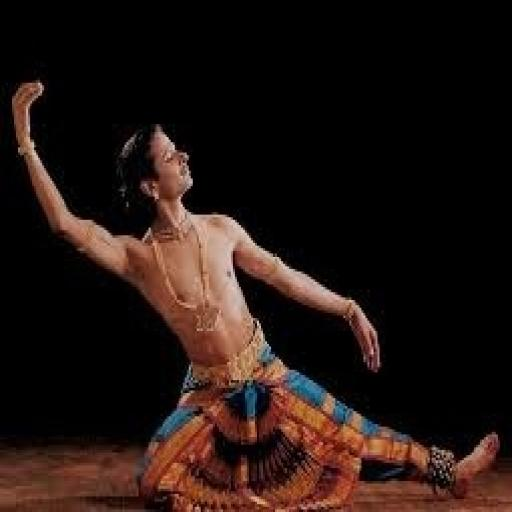dancing: (8, 75, 504, 509)
